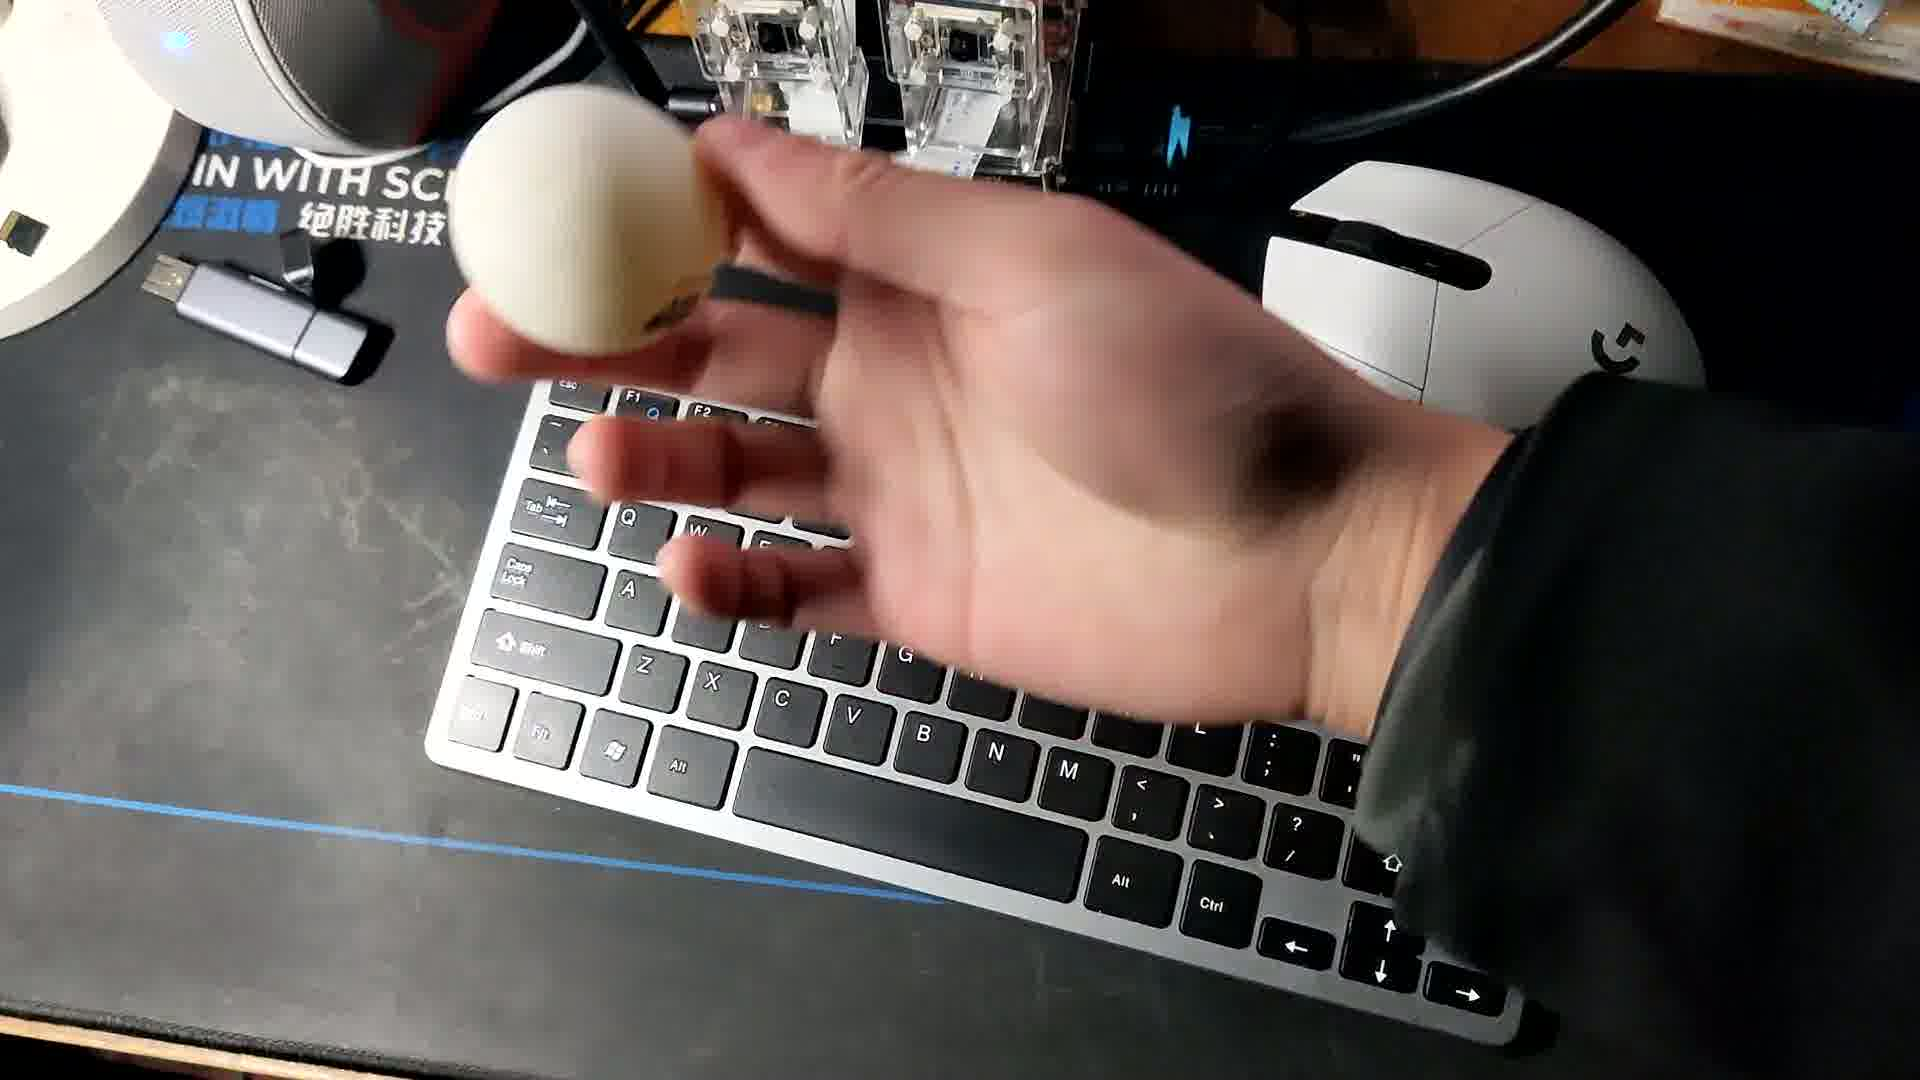Ball: (448, 88, 731, 356)
